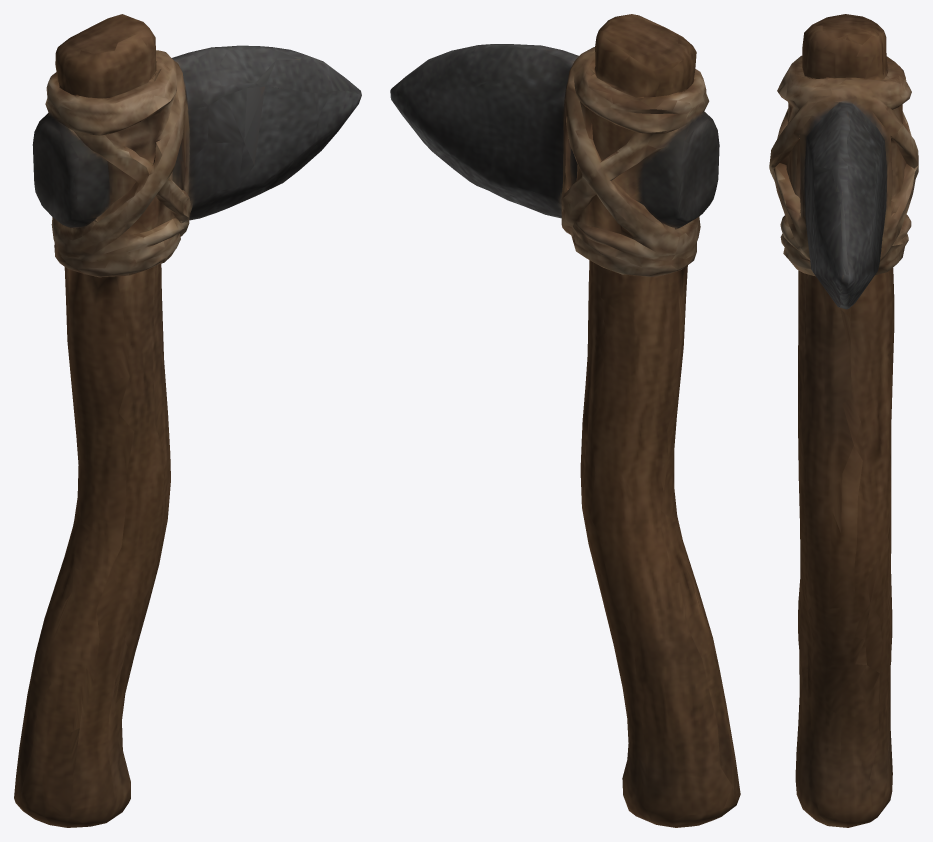
3 views of the same model, side by side, from view 1: azimuth 30°, elevation 25°; view 2: azimuth 150°, elevation 25°; view 3: azimuth 270°, elevation 25° (orthographic). The views are drawn at different scales.
Visible parts, largest first — view 1: stone-axe.001; view 2: stone-axe.001; view 3: stone-axe.001.
Part boxes in pixels (left/top/right/bottom): stone-axe.001: left=14, top=14, right=361, bottom=827; stone-axe.001: left=390, top=14, right=740, bottom=827; stone-axe.001: left=769, top=14, right=918, bottom=827.
Bounding box in the file's own units: 0.4335 × 0.9503 × 0.1587.
1 material, 1 textured.
